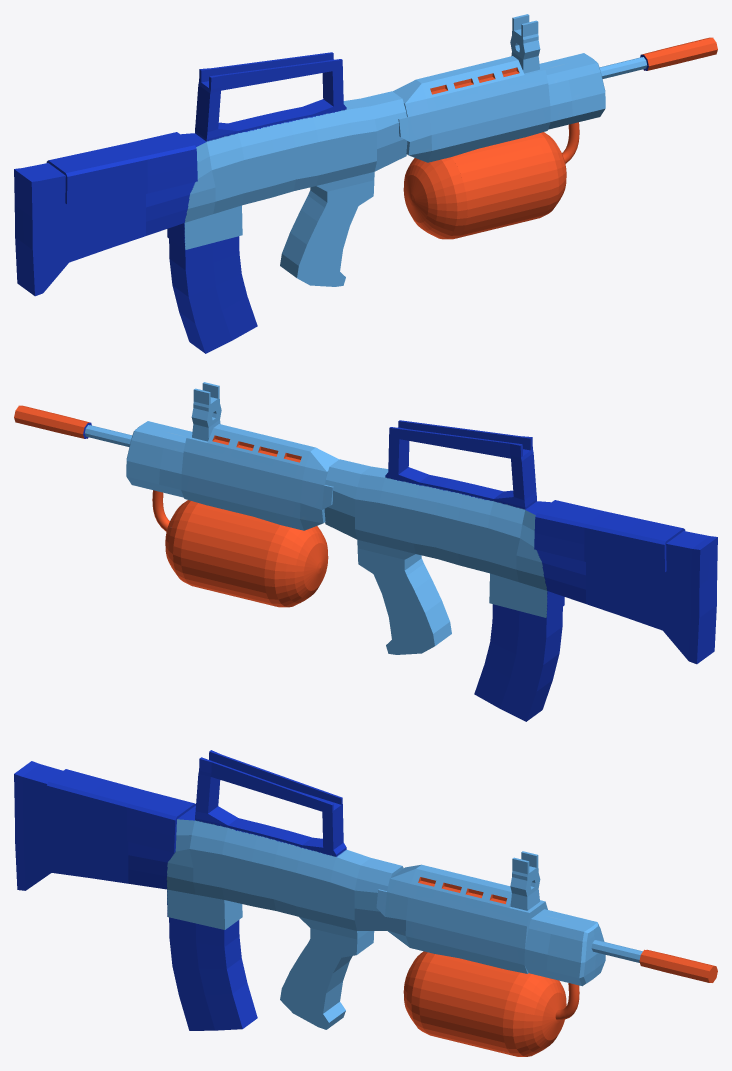
The model's file is Famas.fbx.
The picture shows the model from 3 angles, top to bottom: view 1: azimuth 30°, elevation 25°; view 2: azimuth 150°, elevation 25°; view 3: azimuth 330°, elevation 25°; orthographic projection.
Visible parts, largest first — view 1: Toy Gun, Cylinder; view 2: Toy Gun, Cylinder; view 3: Toy Gun, Cylinder.
Boxes of the visible parts, left/top/right/bottom form: Toy Gun: left=14, top=14, right=717, bottom=353; Cylinder: left=403, top=132, right=566, bottom=239; Toy Gun: left=14, top=382, right=717, bottom=721; Cylinder: left=165, top=500, right=328, bottom=607; Toy Gun: left=14, top=750, right=717, bottom=1030; Cylinder: left=403, top=951, right=566, bottom=1056.
Bounding box in the file's own units: 600 × 226 × 72.57.
3 materials, 2 textured.
